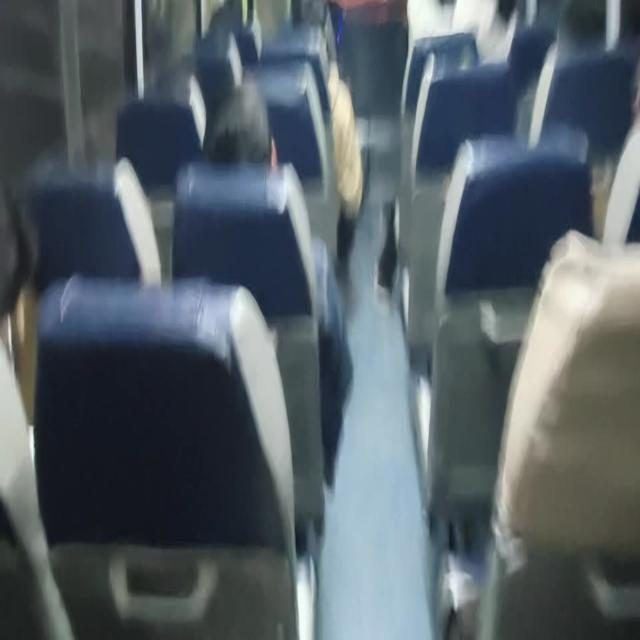person: (278, 0, 333, 81), (222, 90, 280, 162), (596, 44, 640, 128), (145, 48, 207, 96), (551, 8, 594, 65)
